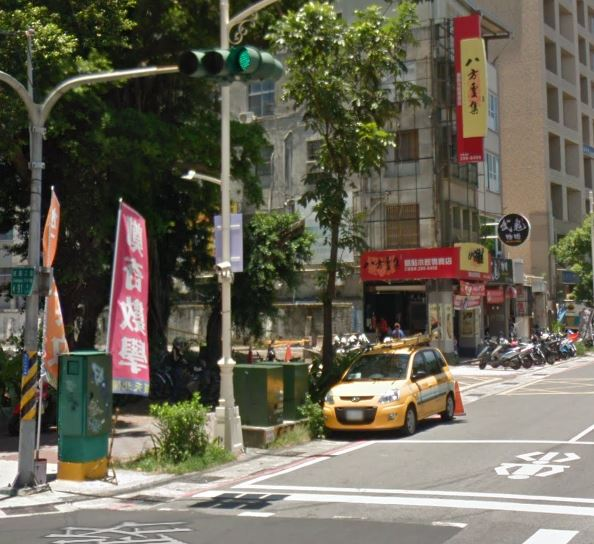Traffic_light_green: (176, 46, 287, 83)
car: (316, 335, 463, 438)
